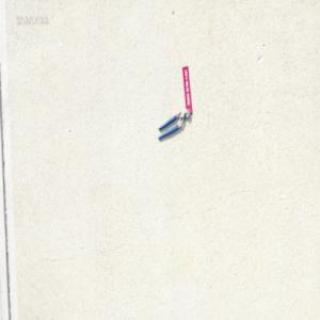LuggageTagtrack_idkeyframe: (180, 64, 192, 113)
Pliertrack_idkeyframe: (156, 107, 189, 140)
